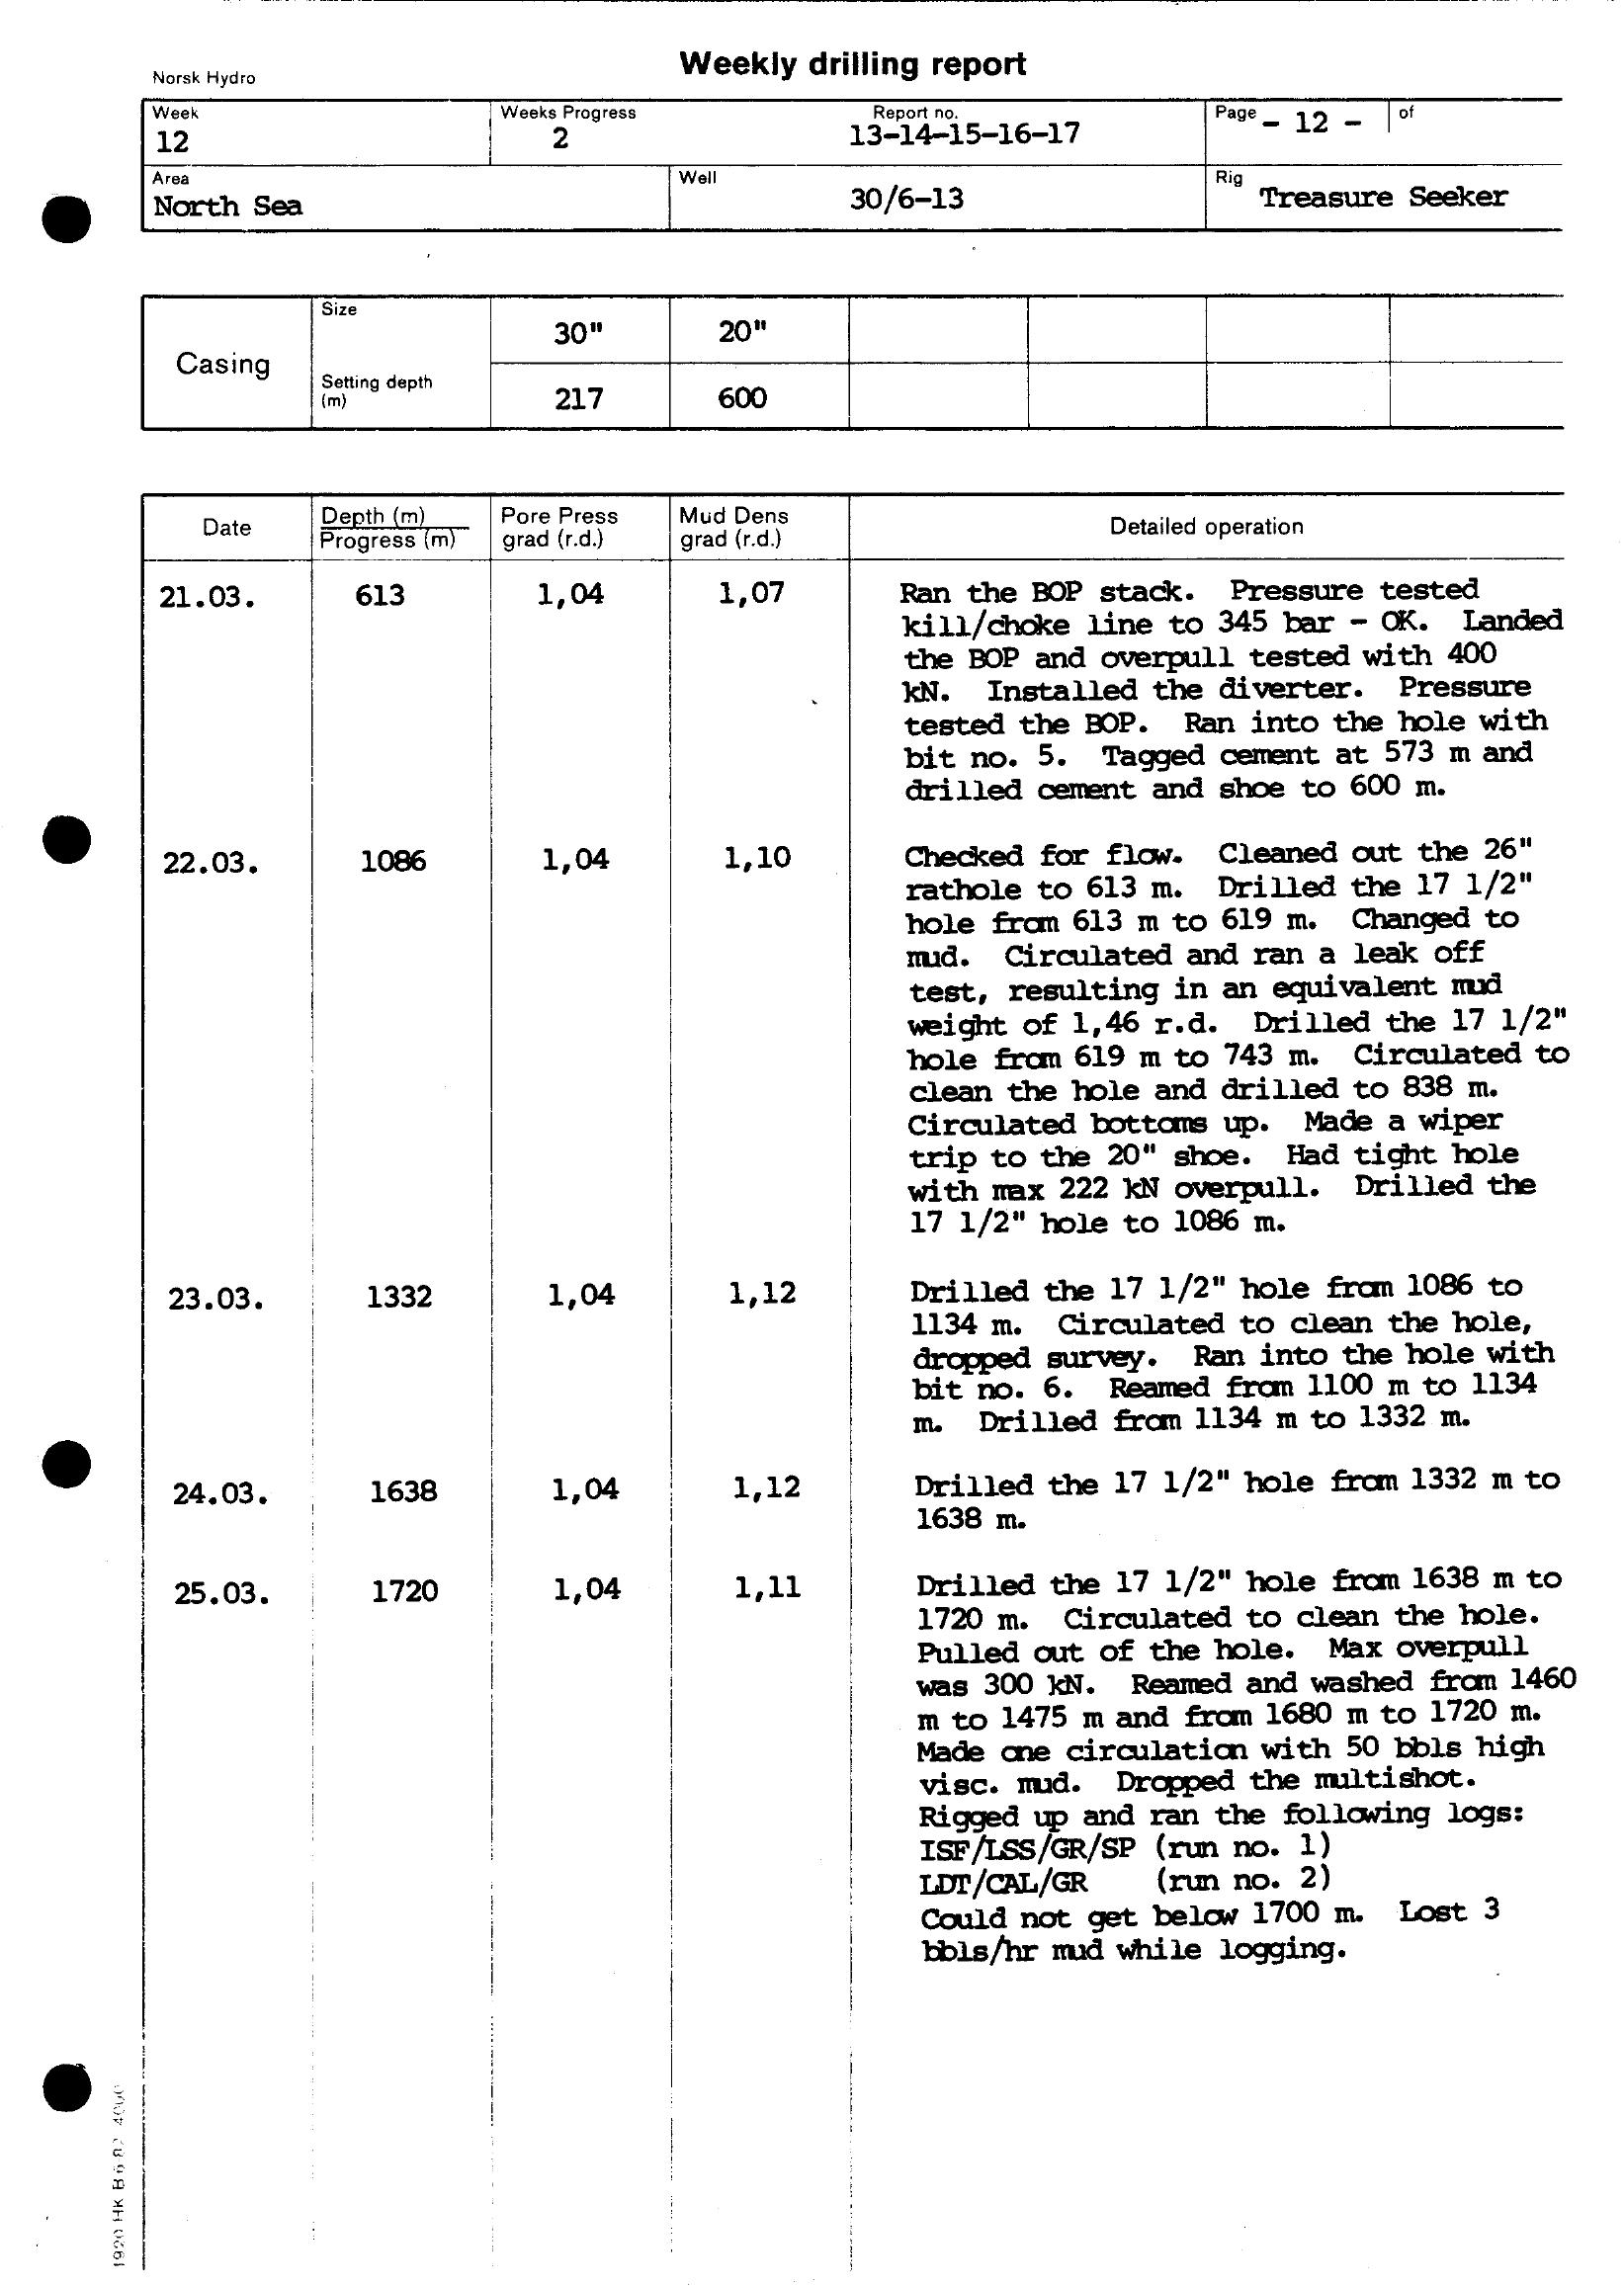graph: (142, 84, 1624, 2009)
text: (663, 30, 1049, 97)
